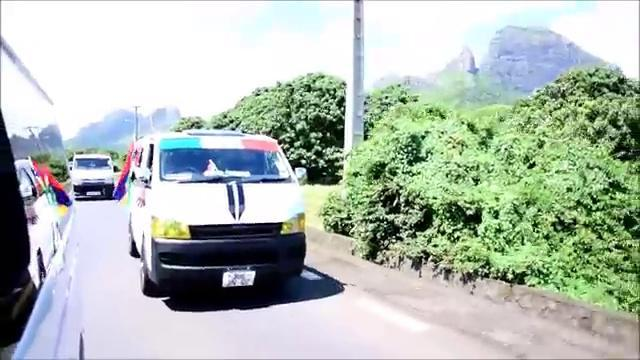van: (122, 132, 313, 295)
